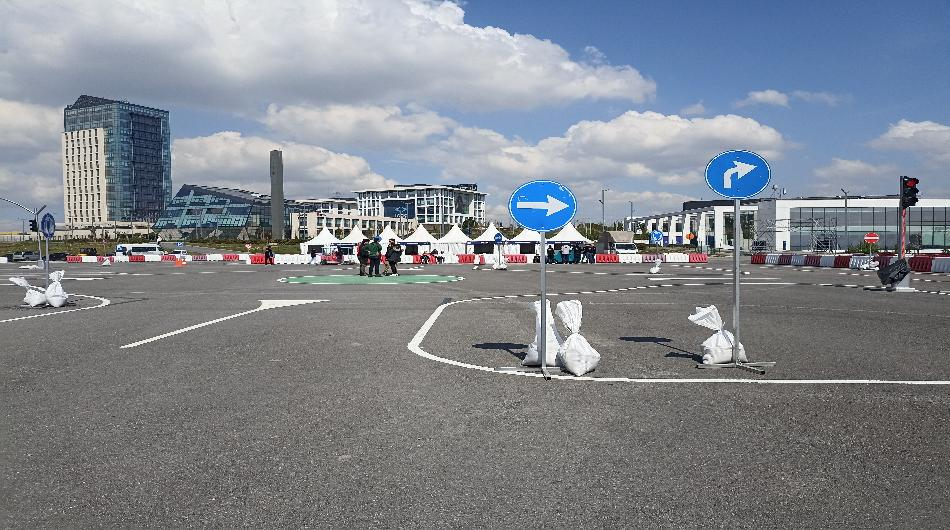saga_mecburi_1: (507, 178, 578, 233)
saga_mecburi_2: (706, 148, 773, 200)
